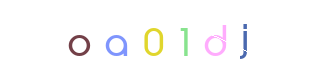0: (125, 0, 205, 80)
1: (127, 0, 207, 80)
A: (113, 0, 193, 80)
D: (130, 0, 210, 80)
J: (151, 0, 231, 80)
O: (39, 0, 119, 80)
